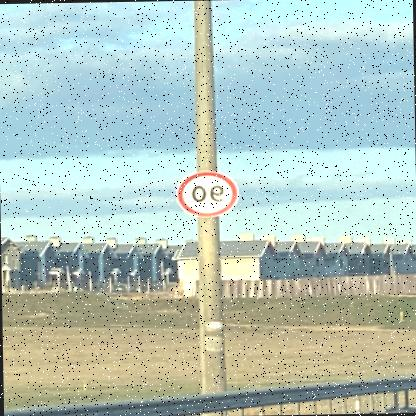speedlimit: (178, 168, 240, 216)
